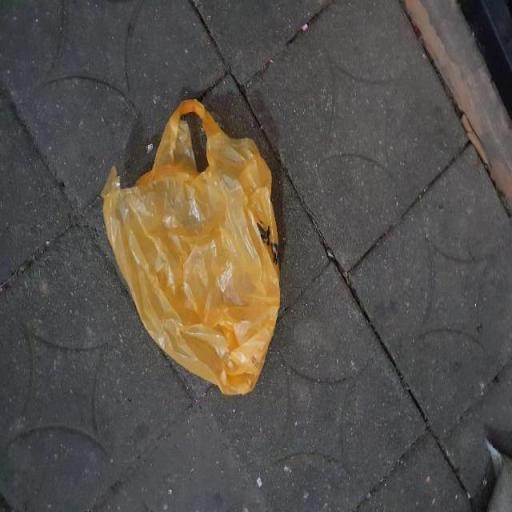plastic-bag: (98, 96, 283, 400)
